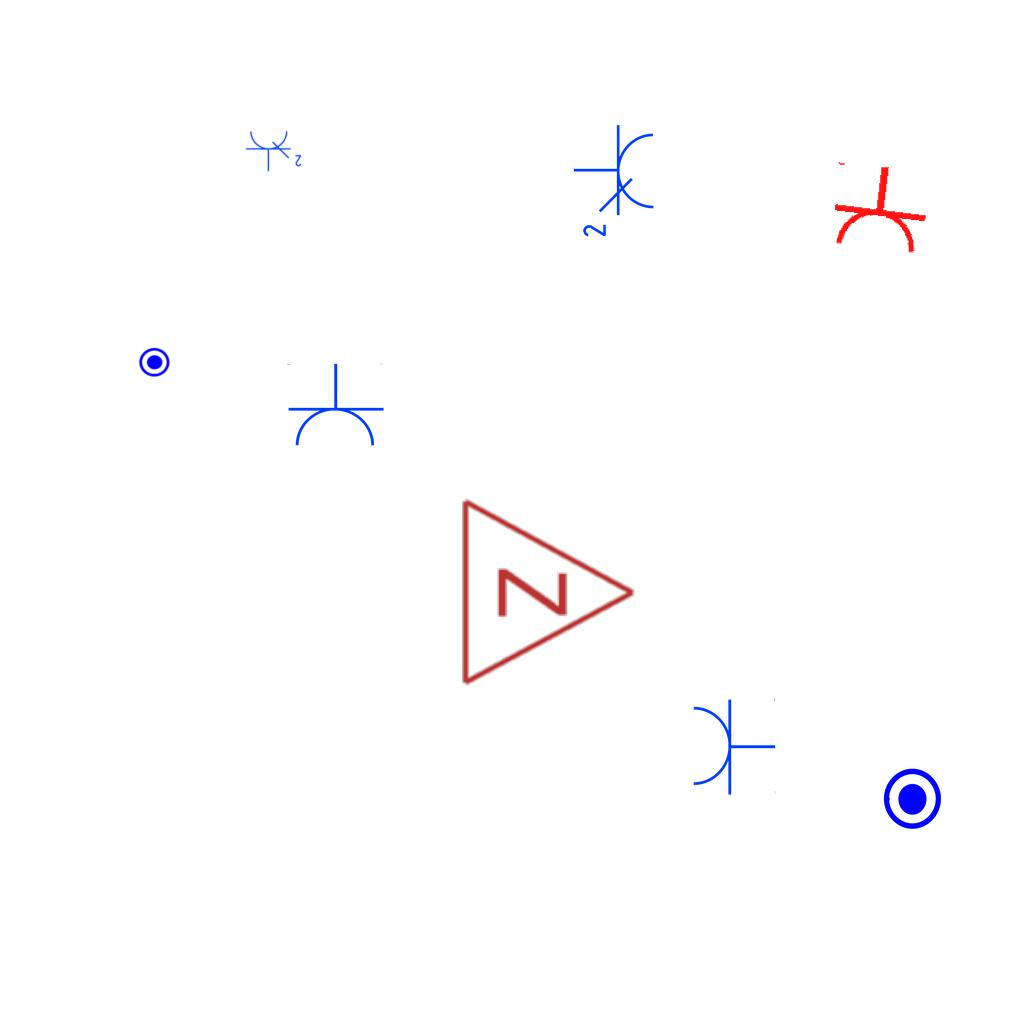Schukosteckdose_einfach: (823, 158, 934, 258), (689, 696, 776, 796), (285, 363, 385, 450)
Schukosteckdose_mehrfach: (572, 123, 660, 244), (245, 128, 305, 172)
Taster: (877, 766, 943, 832), (138, 347, 171, 380)
Zimmersignalleuchte: (448, 492, 648, 688)
